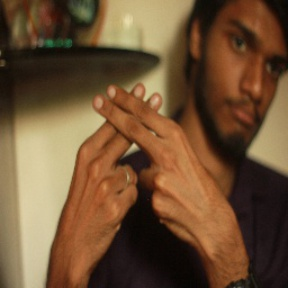F: (77, 69, 189, 187)
